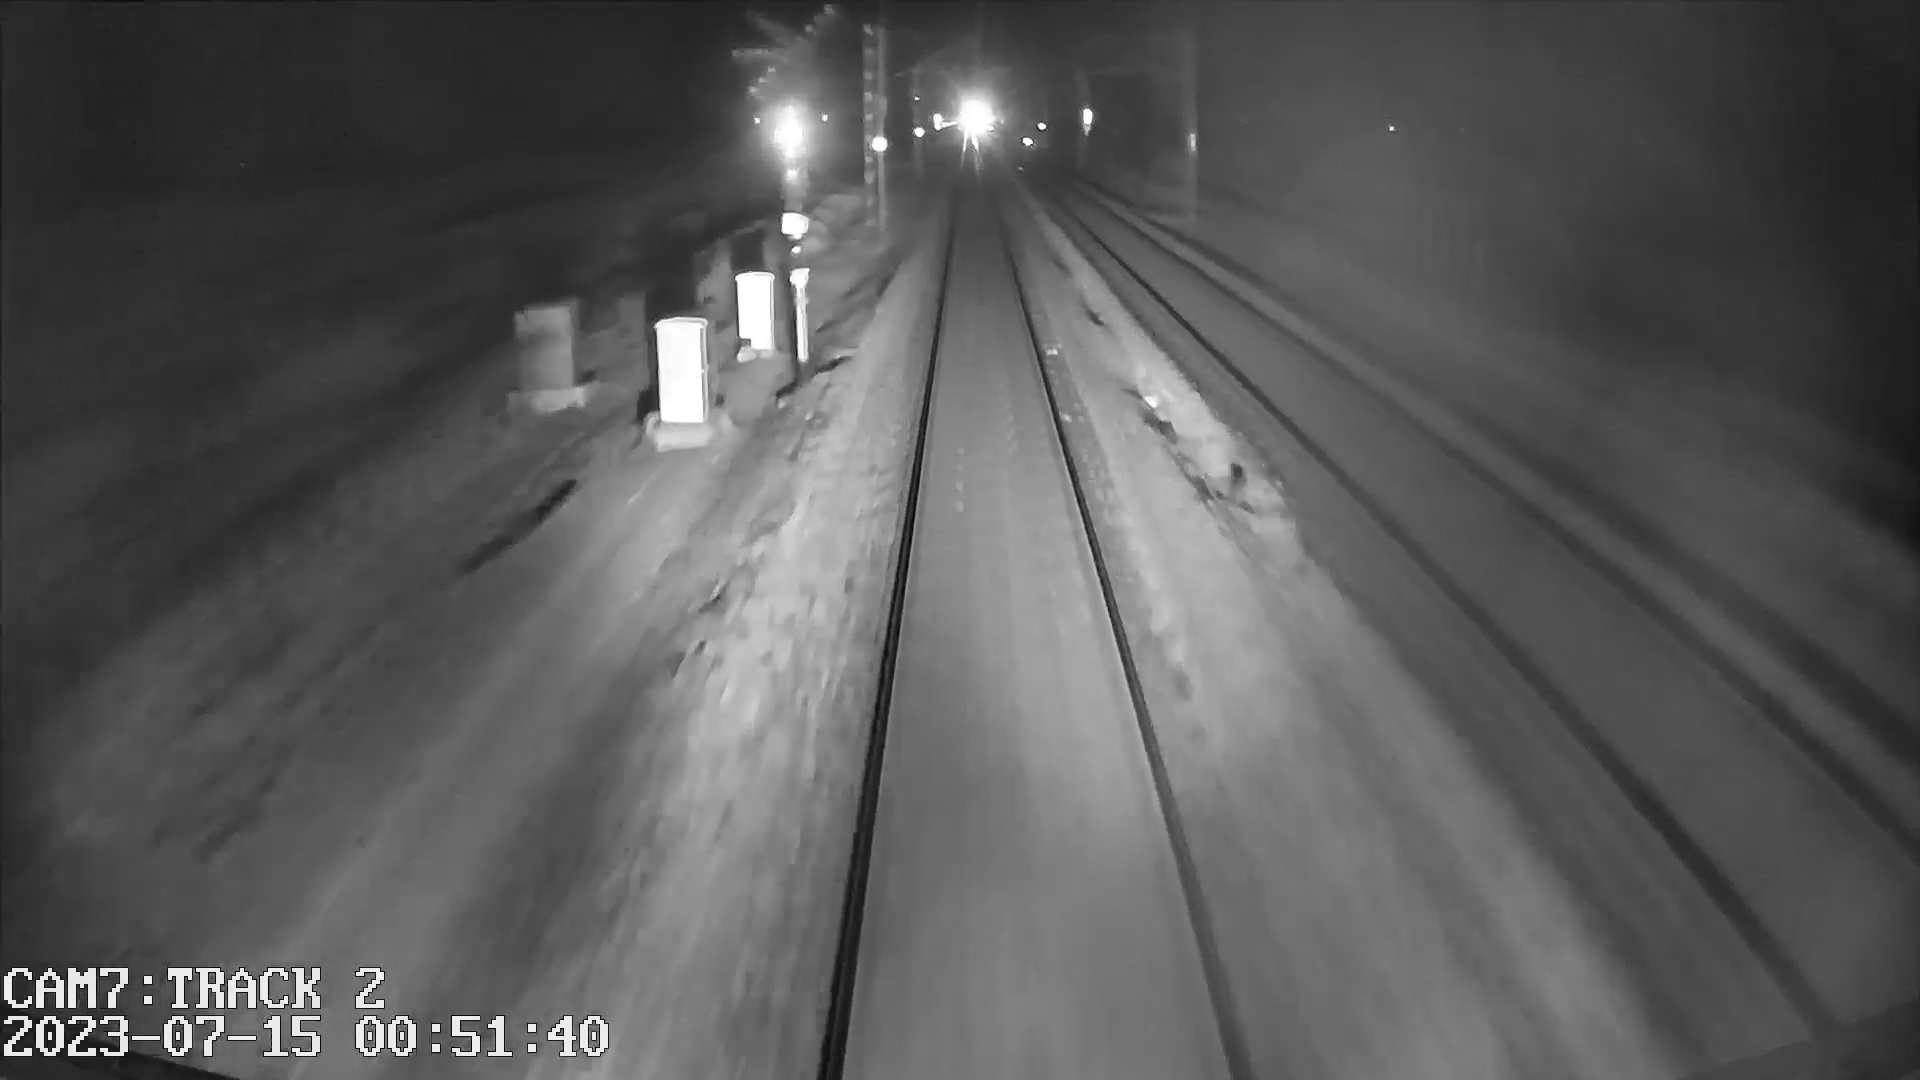track1: (833, 194, 1241, 1052)
track2: (1062, 200, 1909, 952)
